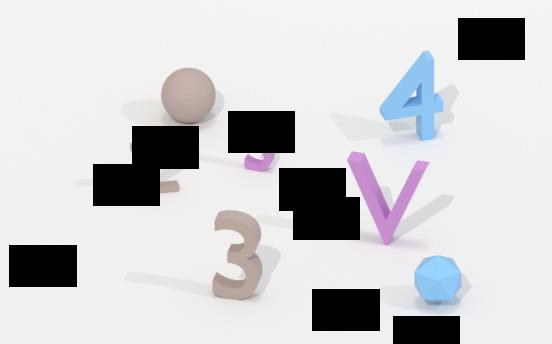3: (210, 205, 265, 305), (243, 114, 277, 176)
4: (377, 47, 446, 144)
cau: (160, 65, 218, 126)
dagiac: (414, 250, 465, 309)
v: (346, 149, 433, 249)
z: (127, 136, 183, 199)
